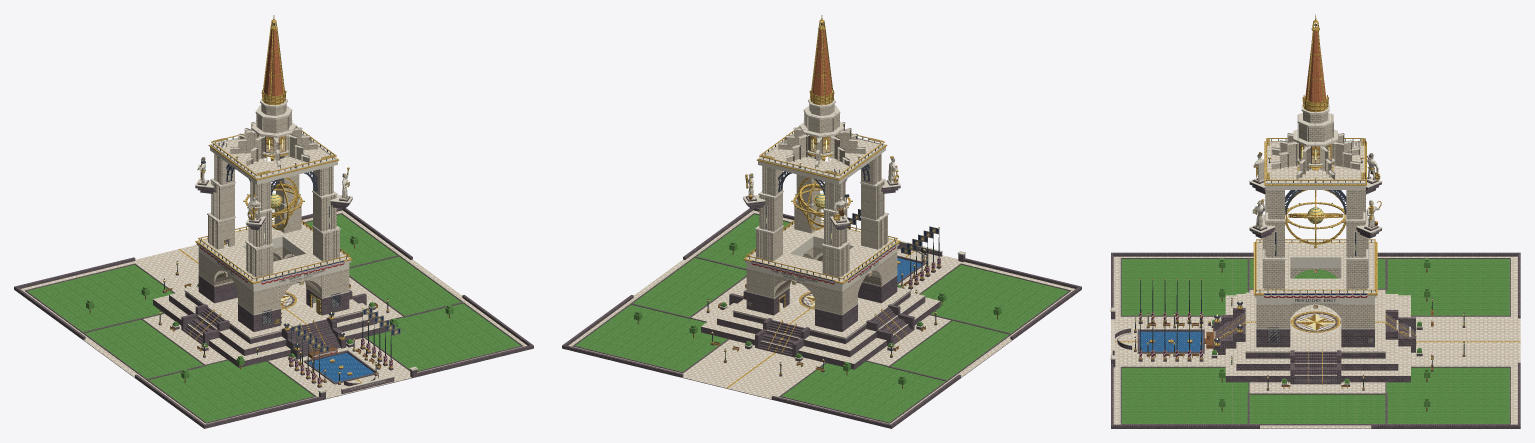
The model's file is great-meridian-1926.glb.
3 renders of one model, left to right at view 1: azimuth 30°, elevation 25°; view 2: azimuth 150°, elevation 25°; view 3: azimuth 270°, elevation 25°, orthographic. The views are drawn at different scales.
Visible parts, largest first — view 1: lot_ground, structure, floor_plaza, floor_rotunda_plaza, floor_cornice_gallery, floor_observation_deck, floor_stairs_pz, armillary_outer; view 2: lot_ground, structure, floor_plaza, floor_rotunda_plaza, floor_cornice_gallery, floor_observation_deck, floor_stairs_mz, armillary_outer; view 3: lot_ground, structure, floor_plaza, floor_rotunda_plaza, floor_cornice_gallery, floor_observation_deck, floor_stairs_px, armillary_outer, floor_stairs_pz.
Boxes of the visible parts, x1,y1,x2,y2 form: lot_ground: (14,208,533,428); structure: (153,15,390,367); floor_plaza: (20,210,527,424); floor_rotunda_plaza: (185,281,362,337); floor_cornice_gallery: (198,222,349,281); floor_observation_deck: (214,135,334,177); floor_stairs_pz: (290,319,339,355); armillary_outer: (243,156,304,230); lot_ground: (562,208,1081,428); structure: (701,15,940,369); floor_plaza: (568,210,1075,424); floor_rotunda_plaza: (733,281,910,337); floor_cornice_gallery: (746,222,897,281); floor_observation_deck: (761,135,881,177); floor_stairs_mz: (758,320,804,355); armillary_outer: (791,156,852,230); lot_ground: (1110,252,1520,428); structure: (1213,14,1416,384); floor_plaza: (1111,256,1520,428); floor_rotunda_plaza: (1245,292,1385,351); floor_cornice_gallery: (1256,242,1375,293); floor_observation_deck: (1267,142,1364,182); floor_stairs_px: (1294,352,1336,382); armillary_outer: (1285,166,1346,245); floor_stairs_pz: (1215,311,1245,344).
Size of what is drawn, in the model's own units: 120 by 107 by 120.
12 materials, 12 textured.
